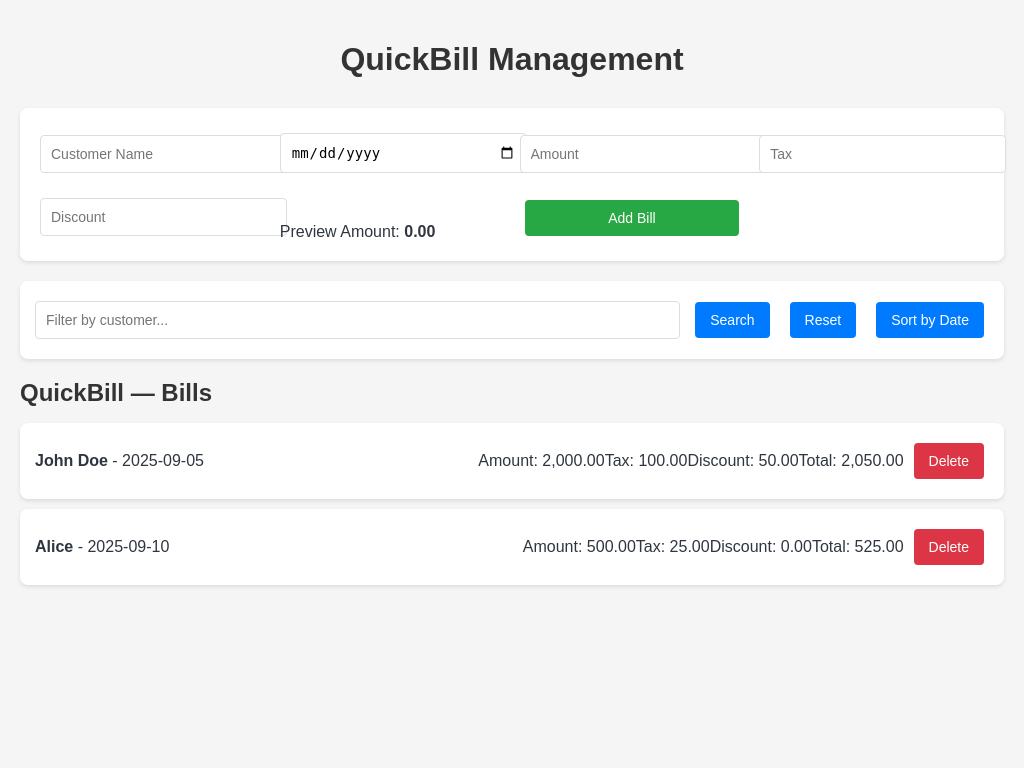
Test: QuickBill React App › delete_bill_should_remove_item_and_refresh_list
Expected: the text "John Doe" is shown, [35,452,108,469]
Click the button "Delete" in the row of "John Doe". click: (949, 461)
box: [914,443,984,479]
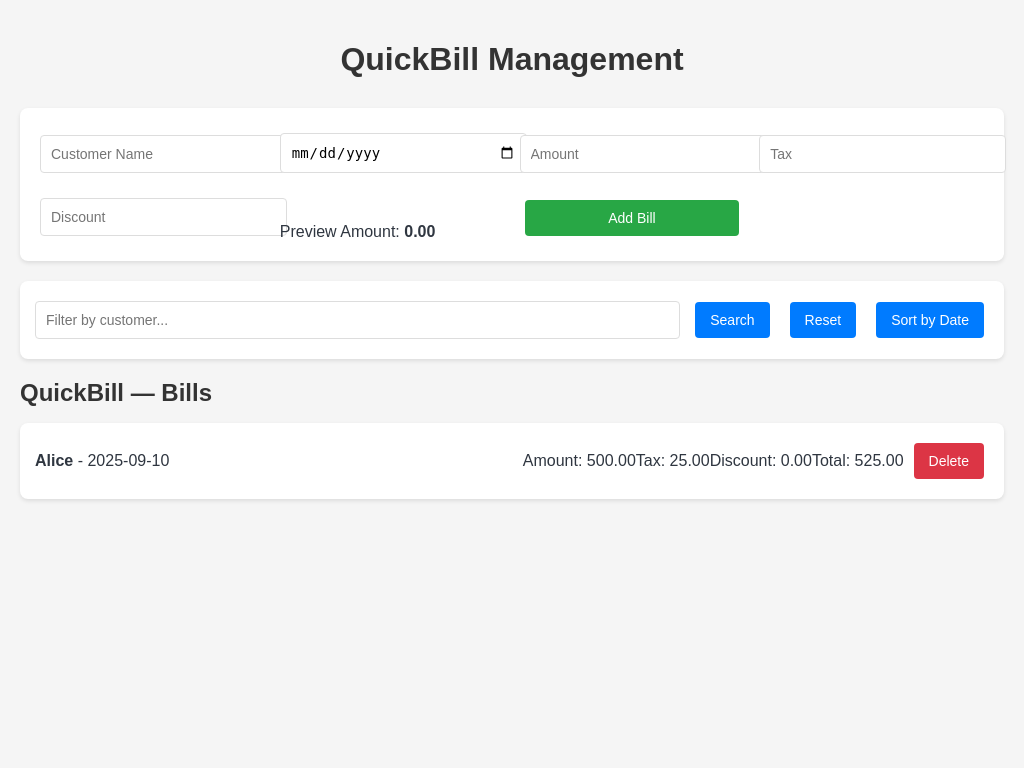
Expected: the text "Alice" is shown, [35,452,73,469]
Expected: the text "John Doe" is gone
